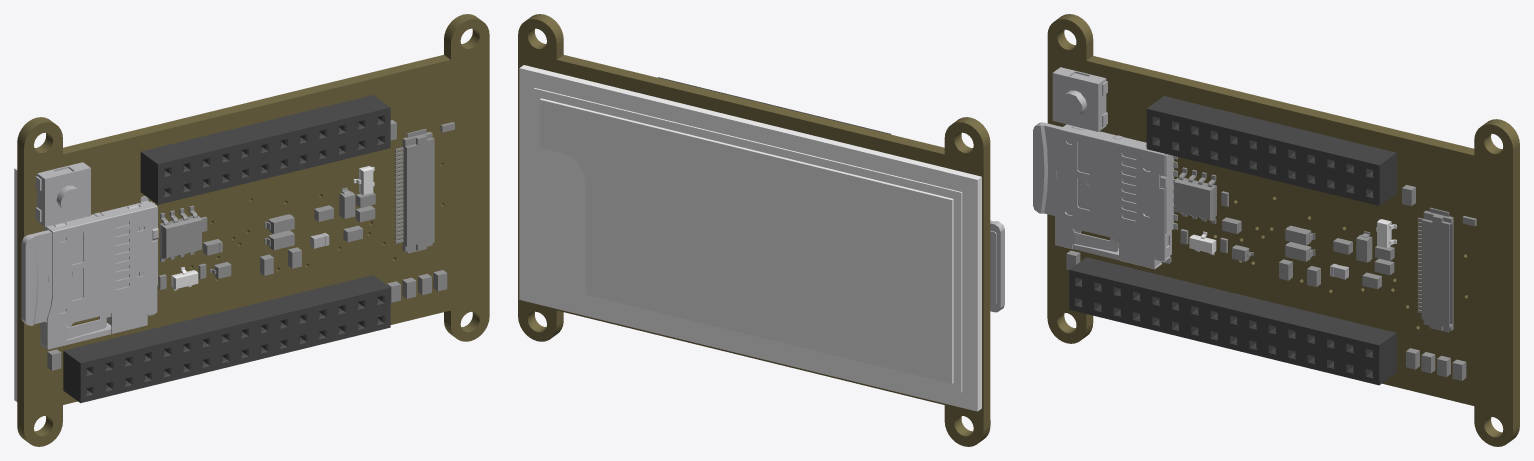
The model's file is ada-4128.glb.
3 views of the same model, side by side, from view 1: azimuth 30°, elevation 25°; view 2: azimuth 150°, elevation 25°; view 3: azimuth 330°, elevation 25° (orthographic).
Visible parts, largest first — view 1: 0.16666666666666666_0.16666666666666666_0.08333333333333333_, 0.08333333333333333_0.08333333333333333_0.08333333333333333_, 0.5833333333333334_0.5833333333333334_0.5833333333333334_0.8, 0.3333333333333333_0.3333333333333333_0.3333333333333333_0, 1_1_1_0.85, 0.9166666666666666_0.9166666666666666_0.9166666666666666_0.8; view 2: 0.9166666666666666_0.9166666666666666_0.9166666666666666_0.8, 1_1_1_0.85, 0.16666666666666666_0.16666666666666666_0.08333333333333333_, 0.5833333333333334_0.5833333333333334_0.5833333333333334_0.8; view 3: 0.16666666666666666_0.16666666666666666_0.08333333333333333_, 0.08333333333333333_0.08333333333333333_0.08333333333333333_, 0.5833333333333334_0.5833333333333334_0.5833333333333334_0.8, 0.3333333333333333_0.3333333333333333_0.3333333333333333_0, 0.9166666666666666_0.9166666666666666_0.9166666666666666_0.8.
Boxes of the visible parts, x1,y1,x2,y2 form: 0.16666666666666666_0.16666666666666666_0.08333333333333333_: (17,14,489,446); 0.08333333333333333_0.08333333333333333_0.08333333333333333_: (63,95,390,403); 0.5833333333333334_0.5833333333333334_0.5833333333333334_0.8: (21,162,329,349); 0.3333333333333333_0.3333333333333333_0.3333333333333333_0: (47,120,454,370); 1_1_1_0.85: (14,168,17,401); 0.9166666666666666_0.9166666666666666_0.9166666666666666_0.8: (171,166,374,290); 0.9166666666666666_0.9166666666666666_0.9166666666666666_0.8: (539,99,952,383); 1_1_1_0.85: (519,65,981,411); 0.16666666666666666_0.16666666666666666_0.08333333333333333_: (518,14,990,446); 0.5833333333333334_0.5833333333333334_0.5833333333333334_0.8: (990,220,1004,312); 0.16666666666666666_0.16666666666666666_0.08333333333333333_: (1047,14,1519,446); 0.08333333333333333_0.08333333333333333_0.08333333333333333_: (1069,96,1396,385); 0.5833333333333334_0.5833333333333334_0.5833333333333334_0.8: (1033,67,1348,279); 0.3333333333333333_0.3333333333333333_0.3333333333333333_0: (1066,167,1476,380); 0.9166666666666666_0.9166666666666666_0.9166666666666666_0.8: (1189,219,1396,255).
Bounding box in the file's own units: 6.18 × 4.05 × 0.7102.
